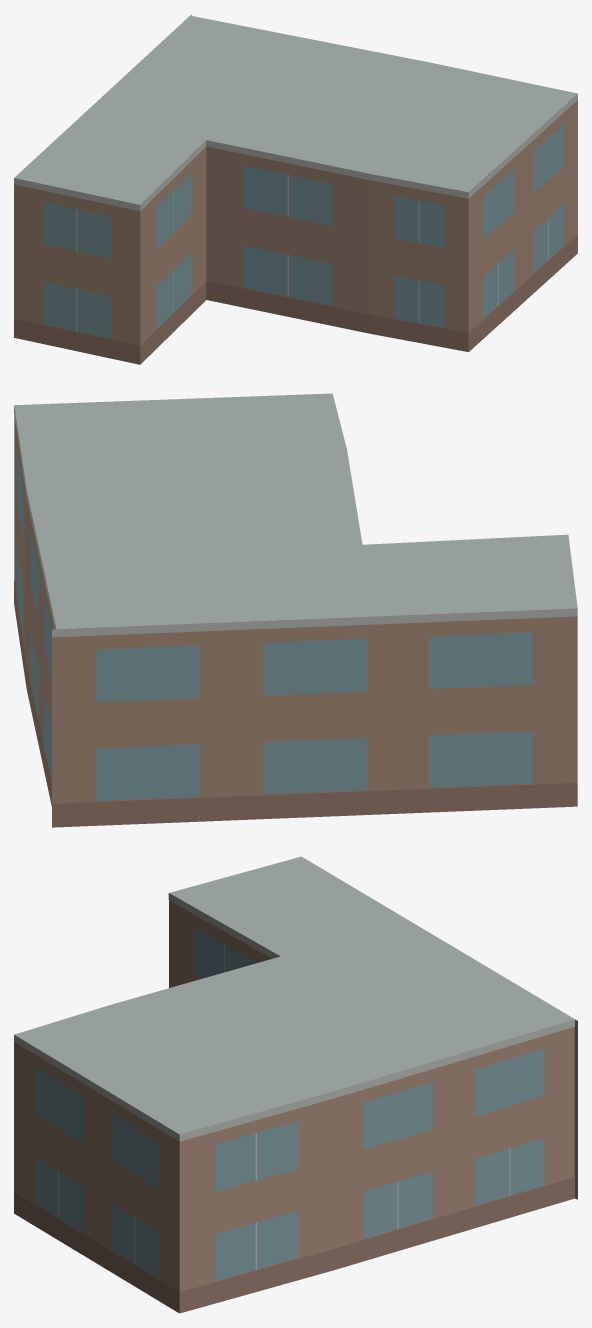
The model's file is survey-upis-32764315.glb.
3 views of the same model, one above another, from view 1: azimuth 30°, elevation 25°; view 2: azimuth 150°, elevation 25°; view 3: azimuth 270°, elevation 25° (orthographic). The views are drawn at different scales.
Visible parts, largest first — view 1: survey-upis-32764315.tmp; view 2: survey-upis-32764315.tmp; view 3: survey-upis-32764315.tmp.
Boxes of the visible parts, x1=… form: survey-upis-32764315.tmp: x1=14, y1=14, x2=577, y2=364; survey-upis-32764315.tmp: x1=14, y1=393, x2=577, y2=827; survey-upis-32764315.tmp: x1=14, y1=856, x2=577, y2=1313.
Size of the model in its own units: 20.35 by 6.1 by 17.43.
